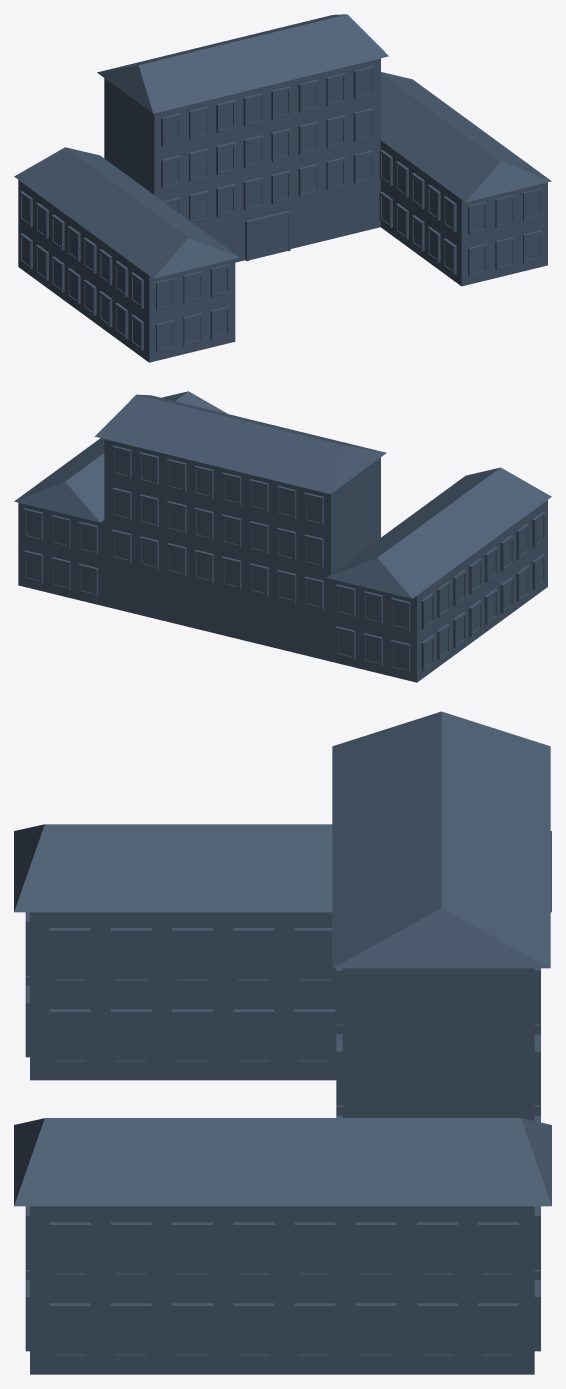
File: Escola.fbx
3 renders of one model, top to bottom at view 1: azimuth 30°, elevation 25°; view 2: azimuth 150°, elevation 25°; view 3: azimuth 270°, elevation 25°, orthographic. The views are drawn at different scales.
Parts seen in each view (by area): view 1: Escola.001; view 2: Escola.001; view 3: Escola.001.
Part boxes in pixels (bbox=[...]): Escola.001: bbox=[14, 14, 551, 362]; Escola.001: bbox=[14, 391, 551, 682]; Escola.001: bbox=[14, 711, 551, 1374].
Bounding box in the file's own units: 2343 × 1086 × 1400.
